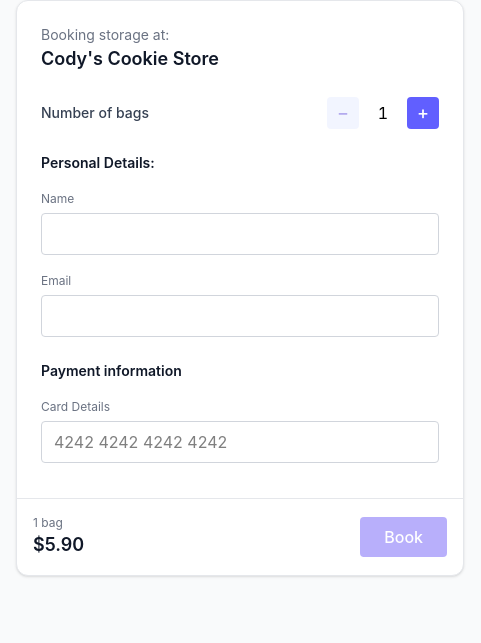
Test case: BookingForm › shows the failure message and a Retry button on a decline
Check: the heading "Cody's Cookie Store" is shown, box [41,48,219,69]
In the field labelled "Name": {"x": 240, "y": 234} [41,213,439,255], type "John Doe"
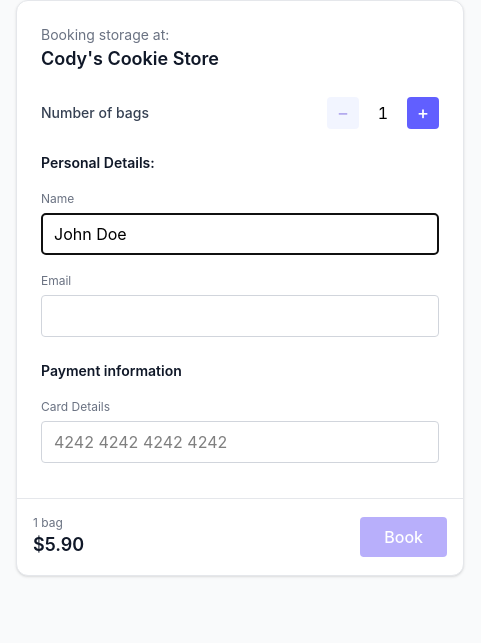
In the field labelled "Email": {"x": 240, "y": 316} [41,295,439,337], type "john@doe.com"
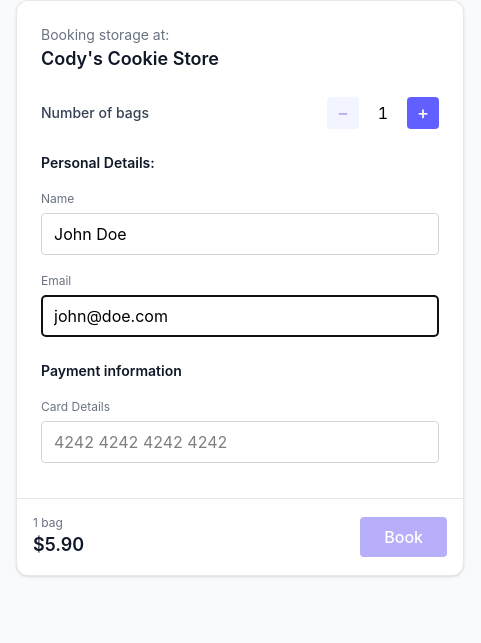
In the field labelled "Card Details": {"x": 240, "y": 442} [41,421,439,463], type "4242424242424242"
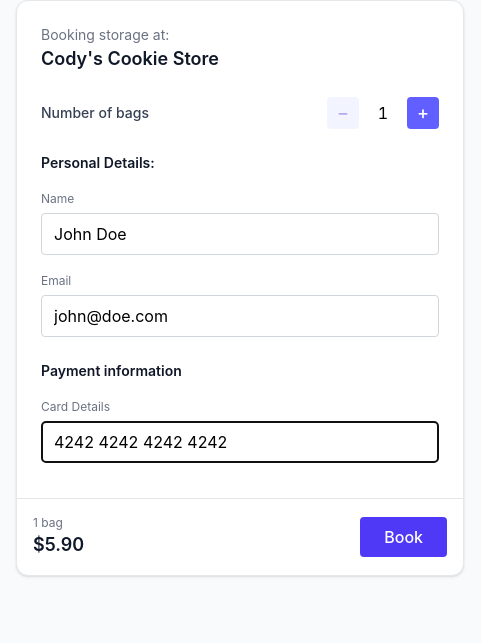
Click the button "Book": {"x": 404, "y": 537} [360,517,447,557]
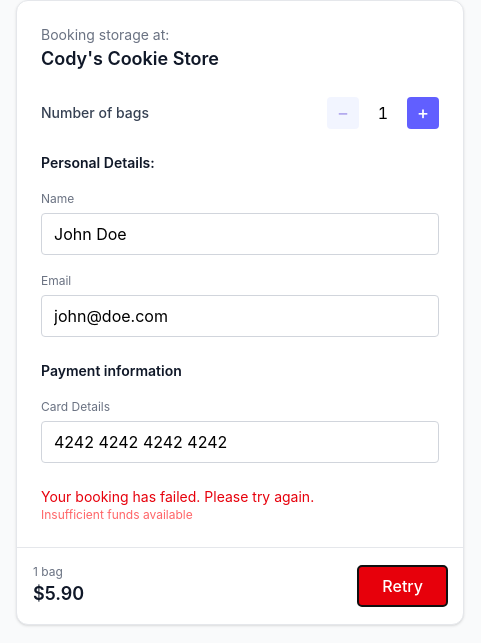
Check: the text "Your booking has failed. Please try again. Insufficient funds available" is shown, box [41,488,314,522]
Check: the button "Retry" is shown, box [358,566,447,606]
Check: the text "Insufficient funds available" is shown, box [41,507,193,522]
